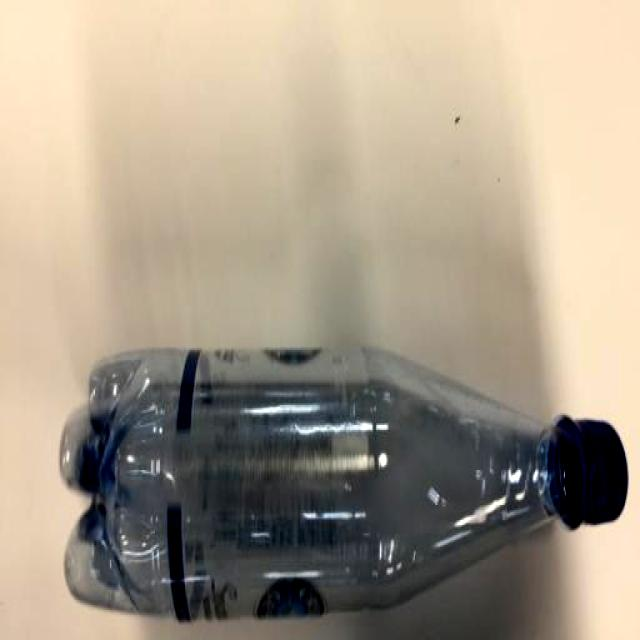Plastic: (54, 339, 633, 632), (550, 417, 629, 529)
